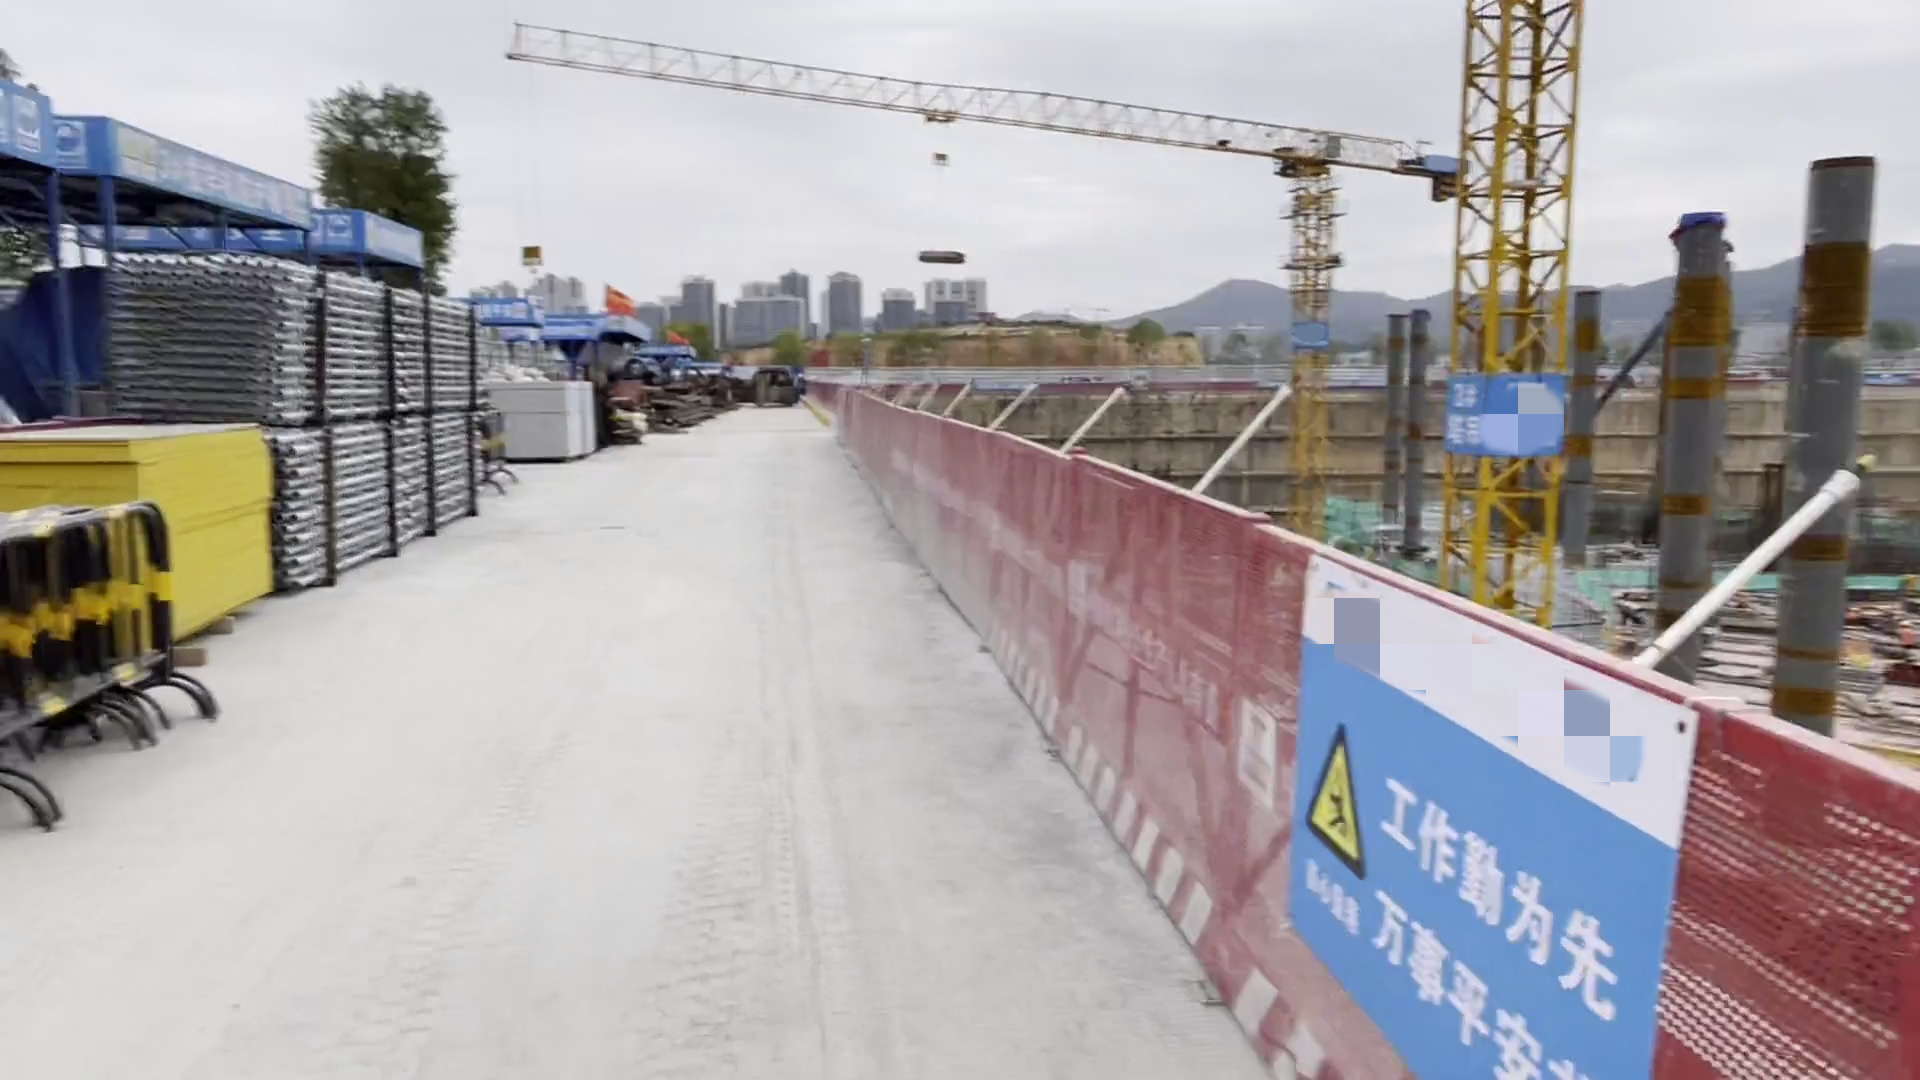board: (3, 411, 285, 641)
brick: (485, 375, 600, 456)
fence: (1251, 524, 1920, 1072), (982, 434, 1259, 968), (7, 500, 219, 783), (844, 394, 932, 542)
hook: (512, 239, 549, 278), (928, 135, 963, 174)
scaffold: (104, 247, 496, 406), (278, 415, 487, 568)
slogan: (1269, 647, 1640, 1080)
